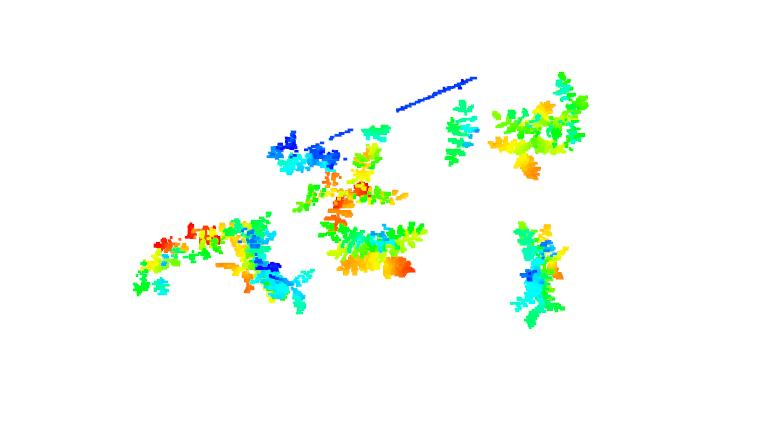chickpea: (290, 123, 412, 228), (487, 72, 596, 184), (214, 211, 314, 316), (509, 218, 579, 328), (133, 220, 223, 297), (319, 222, 432, 278), (265, 129, 340, 175), (442, 98, 480, 170)
